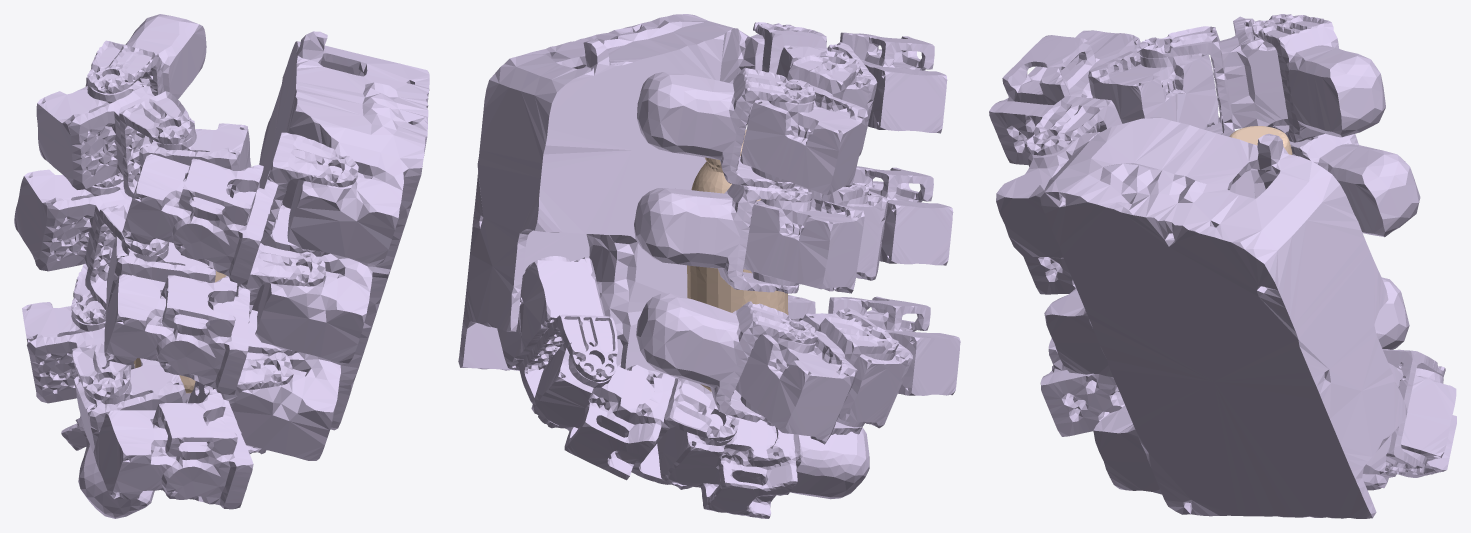
The model's file is 86715e64f18cac-final.glb.
3 renders of one model, left to right at view 1: azimuth 30°, elevation 25°; view 2: azimuth 150°, elevation 25°; view 3: azimuth 270°, elevation 25°, orthographic. The views are drawn at different scales.
Visible parts, largest first — view 1: LEAP_hand; view 2: LEAP_hand, world; view 3: LEAP_hand, world.
Part boxes in pixels (x1,y1,x2,y2): LEAP_hand: (14, 14, 429, 518); LEAP_hand: (458, 14, 960, 518); world: (687, 129, 788, 391); LEAP_hand: (989, 14, 1456, 518); world: (1229, 126, 1292, 154).
Bounding box in the file's own units: 0.1527 × 0.1614 × 0.1465.
